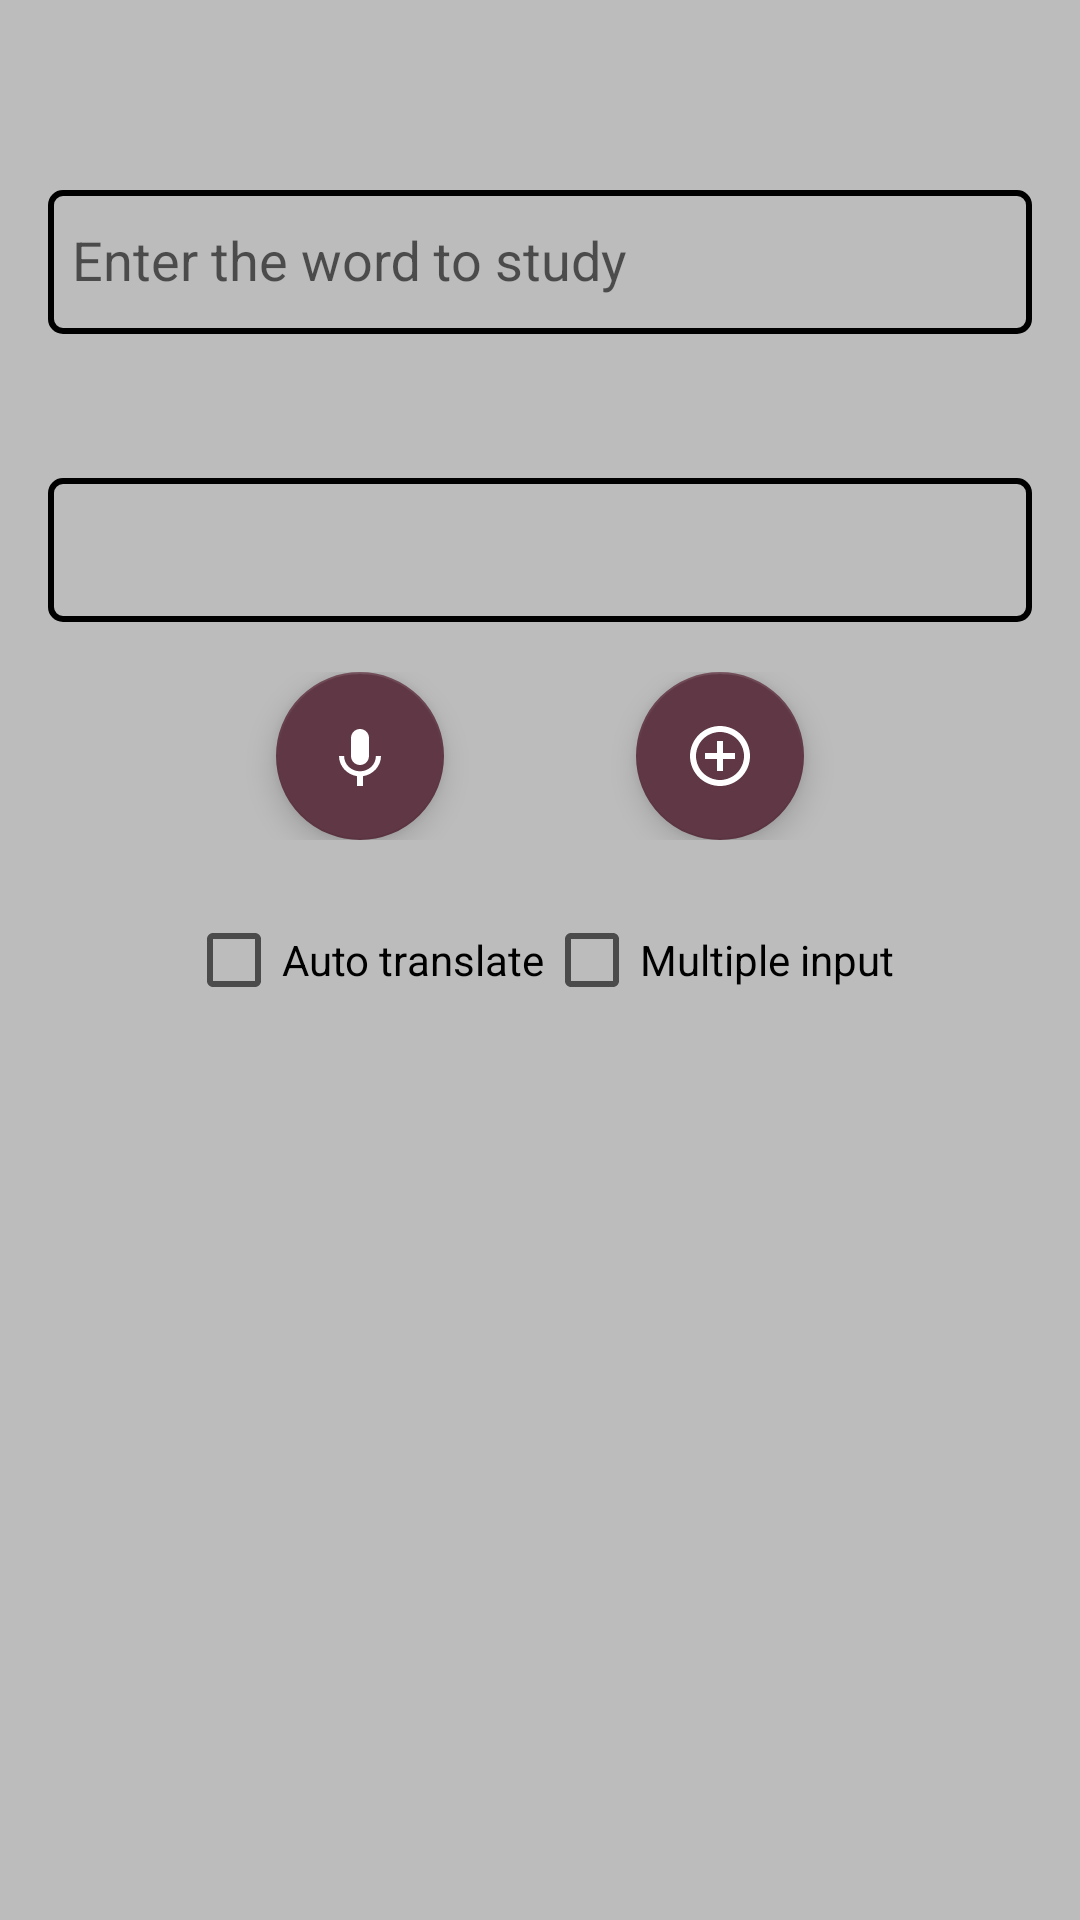

Icon bounding boxes for this 1080*1920 phone screenshot, format Rect(x1, y1, x2, y2):
add word: Rect(636, 672, 804, 840)
voice: Rect(276, 672, 444, 840)
